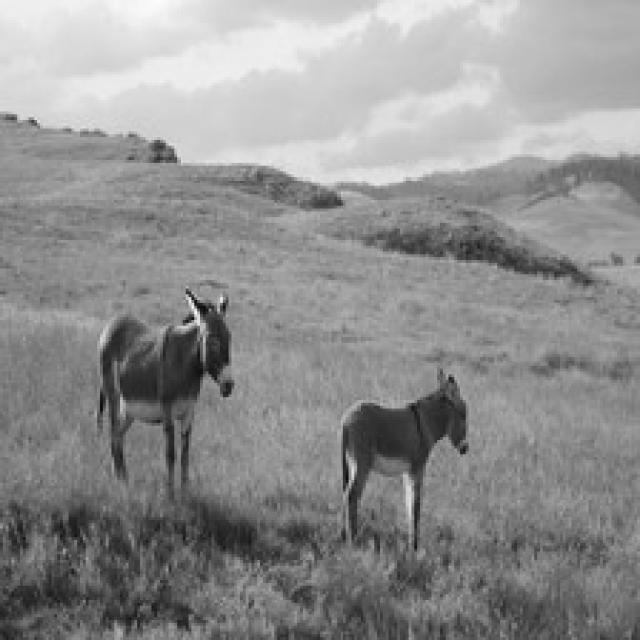Donkey: (94, 286, 234, 500), (337, 366, 469, 551)
